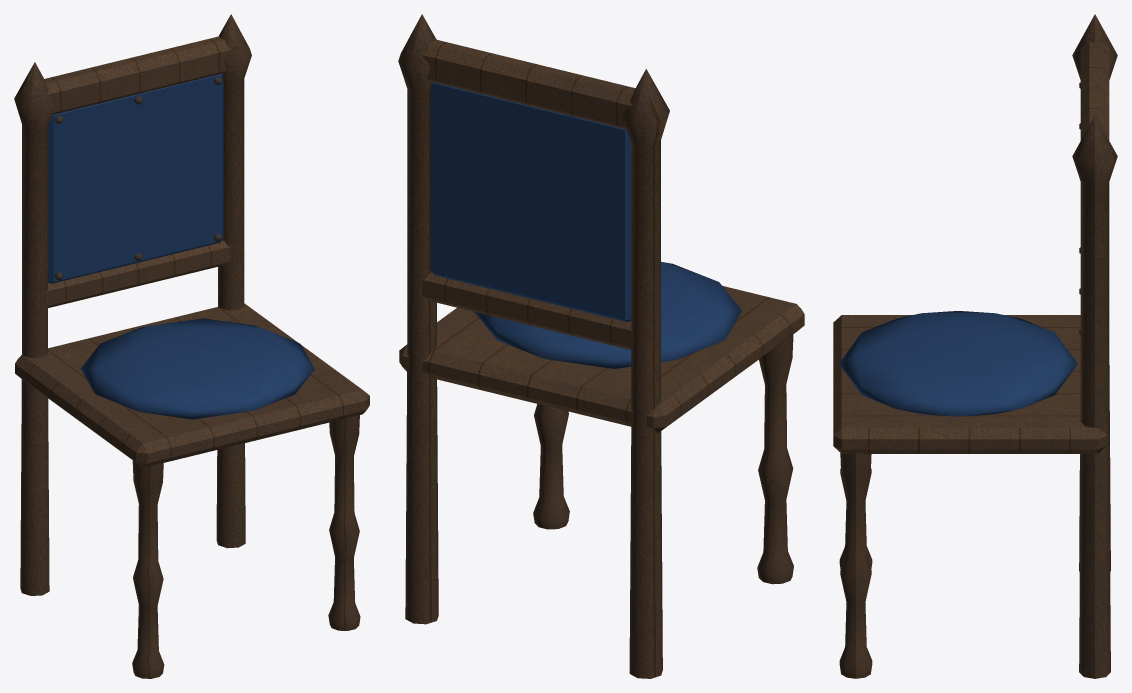
File: chair.glb
The picture shows the model from 3 angles, left to right: view 1: azimuth 30°, elevation 25°; view 2: azimuth 150°, elevation 25°; view 3: azimuth 270°, elevation 25°; orthographic projection. The views are drawn at different scales.
Parts seen in each view (by area): view 1: chair; view 2: chair; view 3: chair.
Boxes of the visible parts, bbox=[...] form: chair: bbox=[14, 14, 369, 678]; chair: bbox=[398, 14, 804, 678]; chair: bbox=[833, 14, 1117, 678].
Bounding box in the file's own units: 0.5 × 1.08 × 0.5.
1 material, 1 textured.
